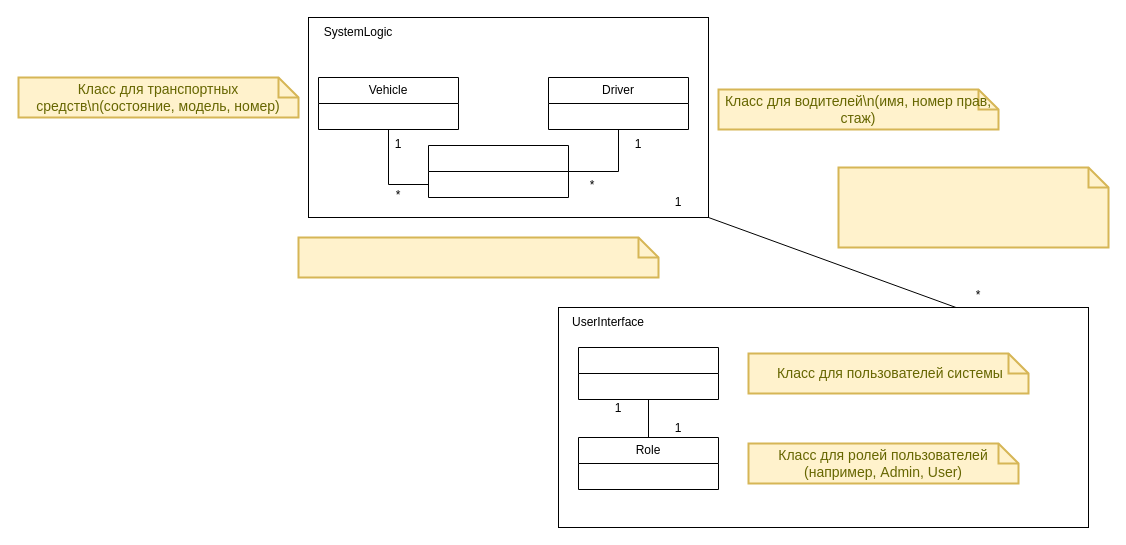
Image size: 1126x545. Some labels were removed from this diagram. The box of each missing label's shape, as (x1, y1, x2, y2) in pixels:
Route: (428, 144, 568, 198)
User: (578, 346, 718, 400)
Класс для рейсов\n(маршрут, дата начала и окончания): (297, 236, 659, 278)
Логика системы для управления\nтранспортом и водителями: (837, 166, 1109, 248)
